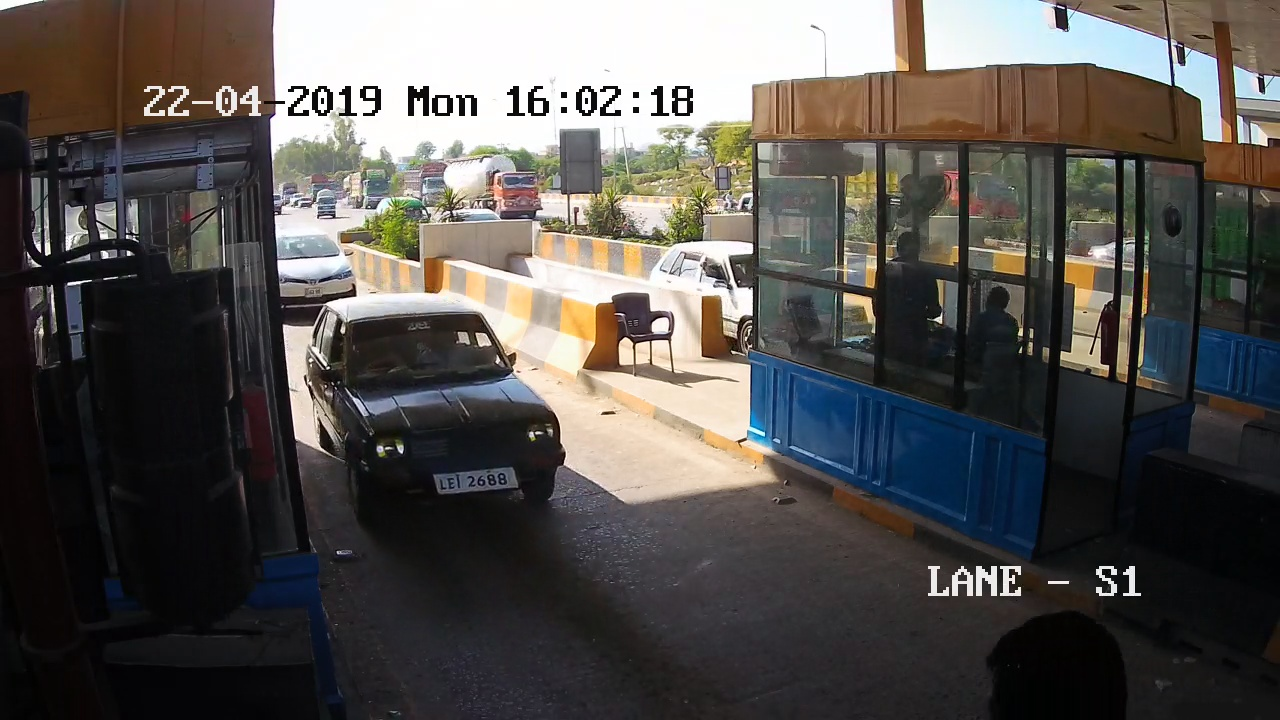Number Plate (Car): (425, 467, 529, 494)
